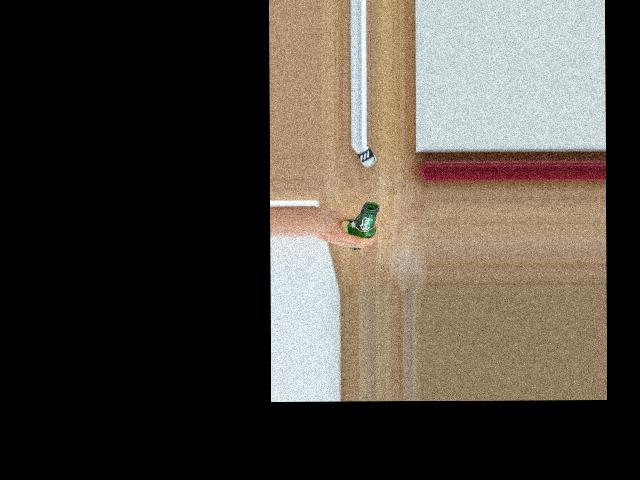beer: (345, 201, 379, 249)
